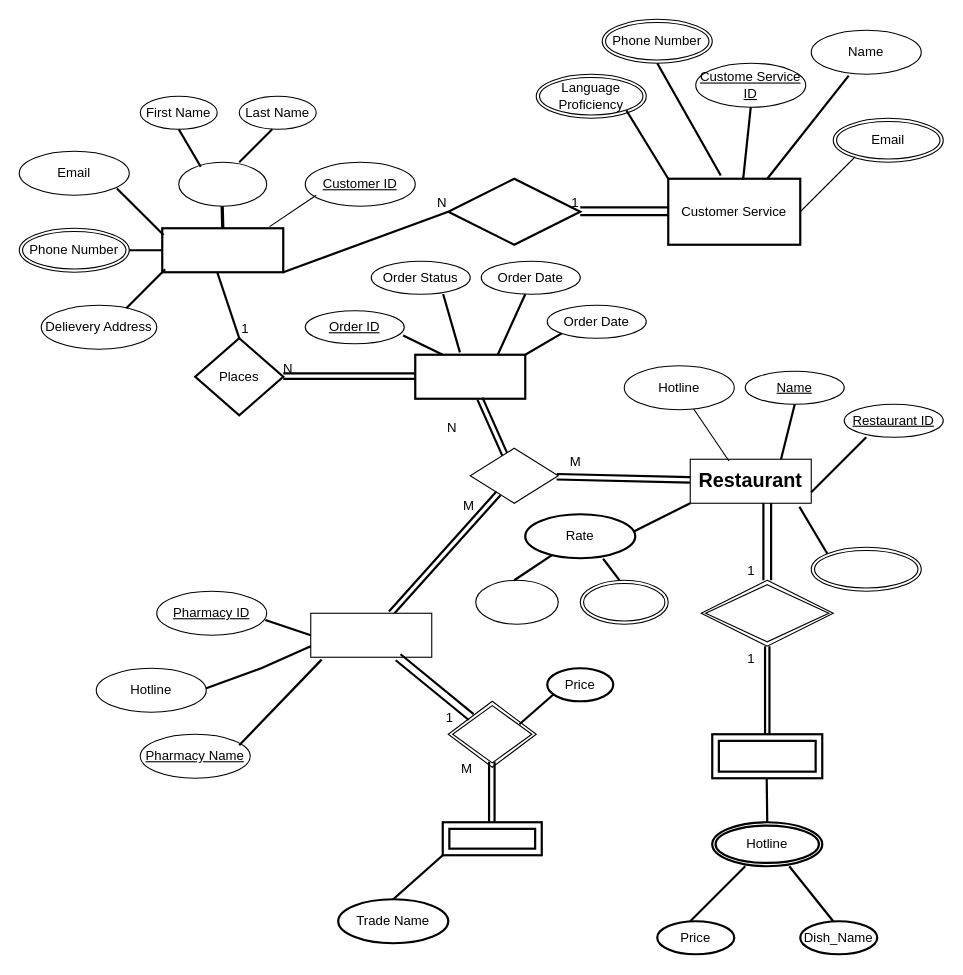
Image size: 963x975. Some labels were removed from this diagram. The shapes that lost their labels are listed below. From the top down, each one's box as (x1, y1, x2, y2) in pixels, then its label:
(178, 161, 267, 206): آName
(447, 177, 581, 245): Calls
(161, 227, 284, 273): Customer
(414, 353, 526, 399): Order
(469, 447, 558, 503): Consists
(810, 546, 921, 591): Address
(475, 579, 558, 624): Stars
(579, 579, 668, 624): Feedbacks
(700, 579, 833, 646): Has a
(310, 612, 432, 657): Pharmacy
(447, 700, 536, 767): Sell
(711, 733, 823, 779): Menu
(441, 821, 542, 856): Drugs
